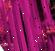with_mask: (1, 1, 55, 51)
